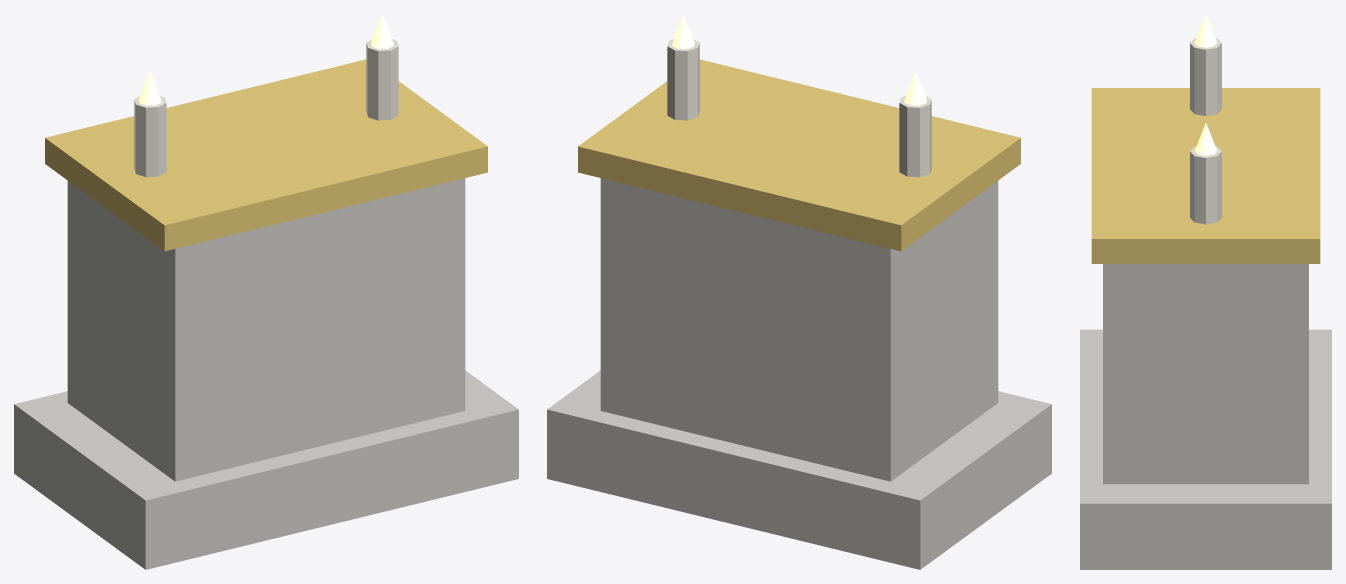
File: station_prayer_altar.glb
3 views of the same model, side by side, from view 1: azimuth 30°, elevation 25°; view 2: azimuth 150°, elevation 25°; view 3: azimuth 270°, elevation 25° (orthographic). The views are drawn at different scales.
Visible parts, largest first — view 1: station_prayer_altar; view 2: station_prayer_altar; view 3: station_prayer_altar.
Boxes of the visible parts, x1,y1,x2,y2 form: station_prayer_altar: (14,14,518,569); station_prayer_altar: (547,14,1051,569); station_prayer_altar: (1080,14,1331,569).
Bounding box in the file's own units: 0.9 × 1 × 0.55.
